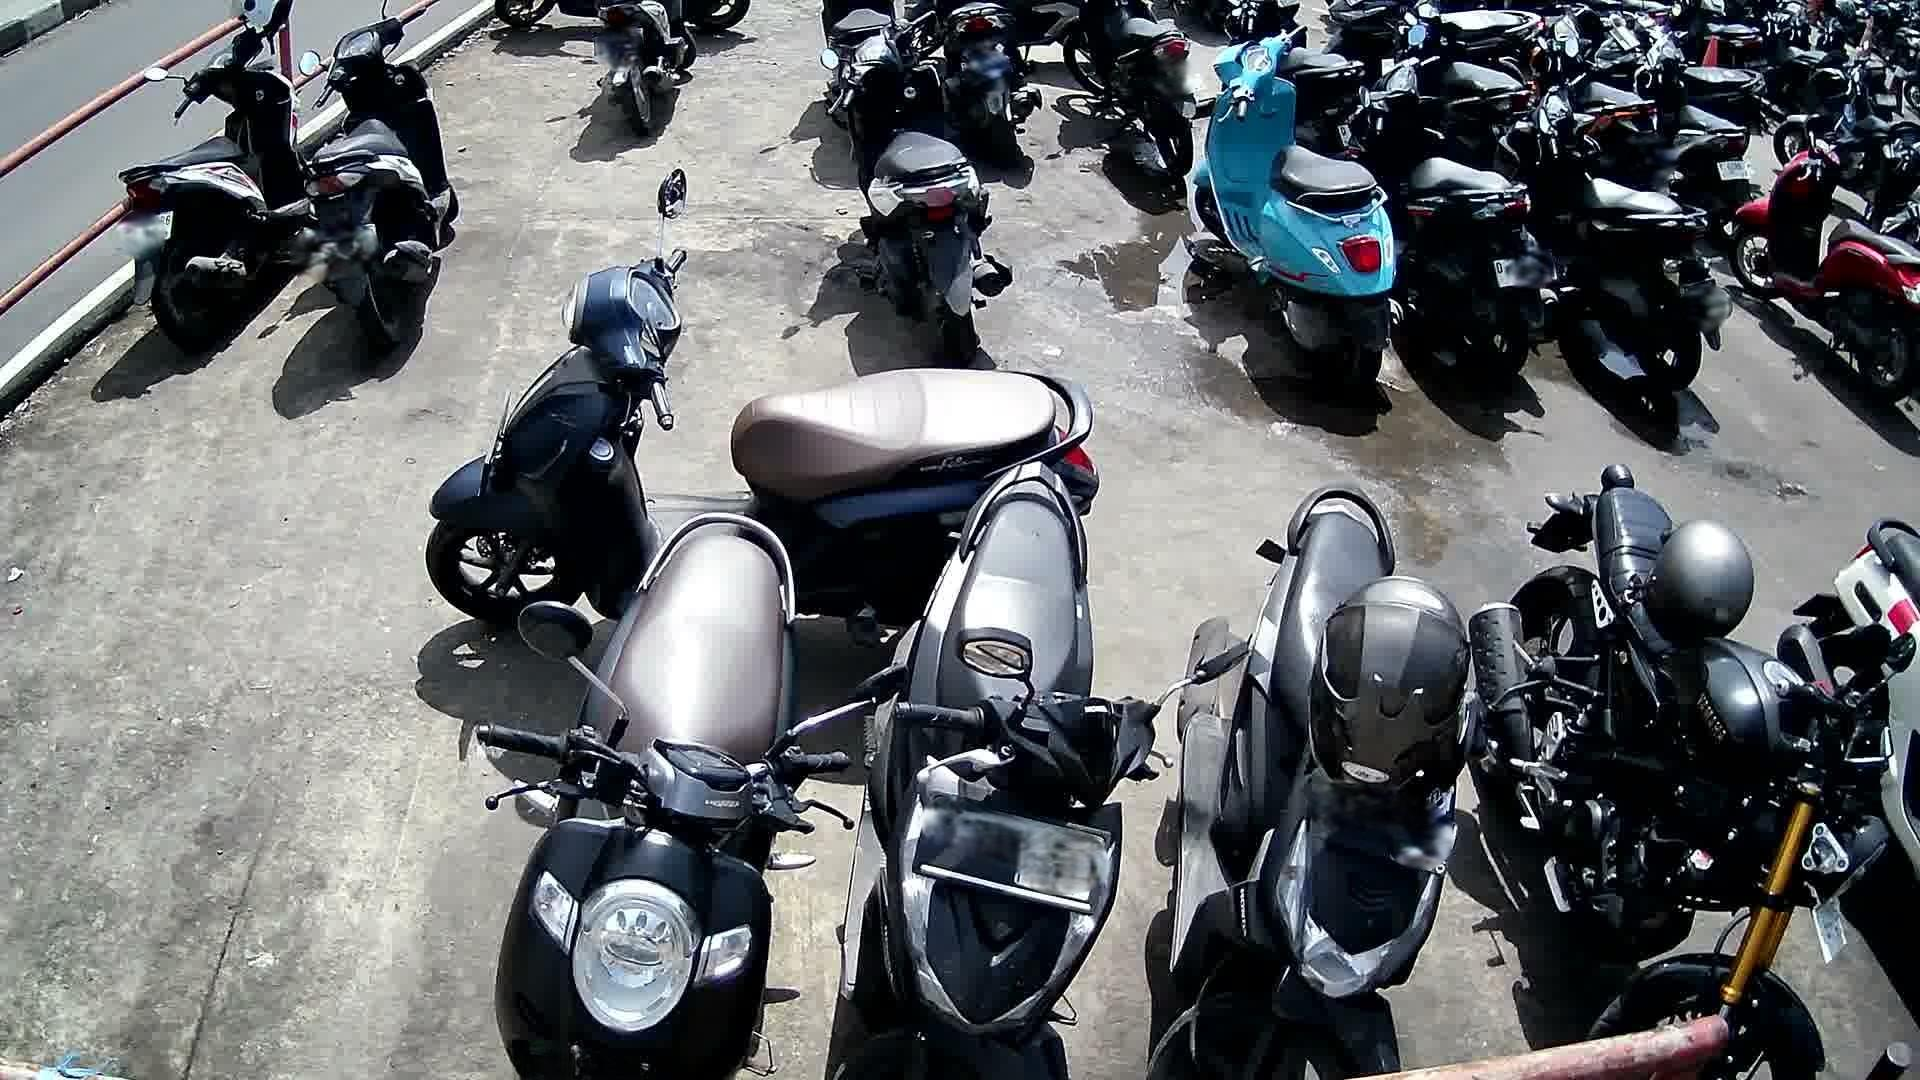motorcycle: (424, 170, 1102, 632), (1470, 464, 1891, 1080), (471, 509, 865, 1080), (841, 464, 1194, 1080), (1150, 482, 1482, 1080), (1186, 25, 1413, 408), (1329, 25, 1565, 386), (1491, 67, 1732, 397), (820, 9, 1015, 363), (118, 17, 310, 358), (300, 0, 464, 358), (1775, 515, 1920, 894), (1732, 117, 1920, 408)
